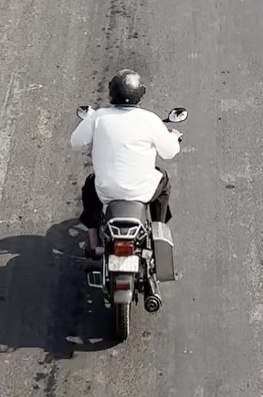BikeWithRider: (69, 67, 188, 340)
Helmet: (106, 68, 148, 109)
